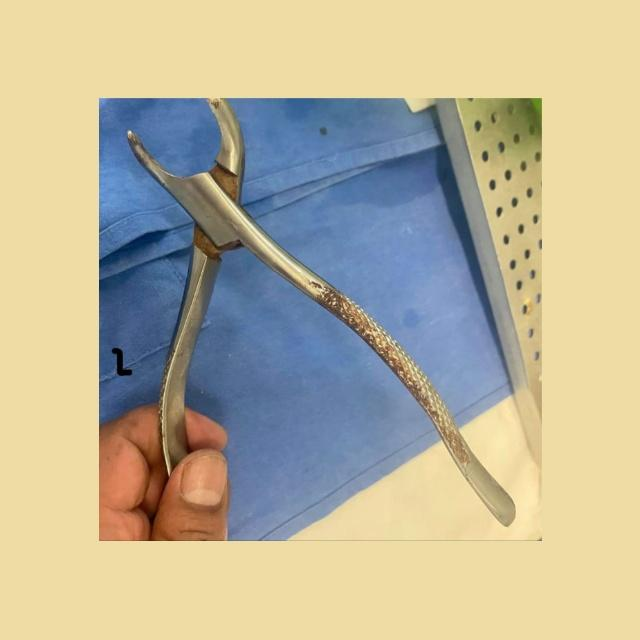forceps: (126, 105, 518, 528)
